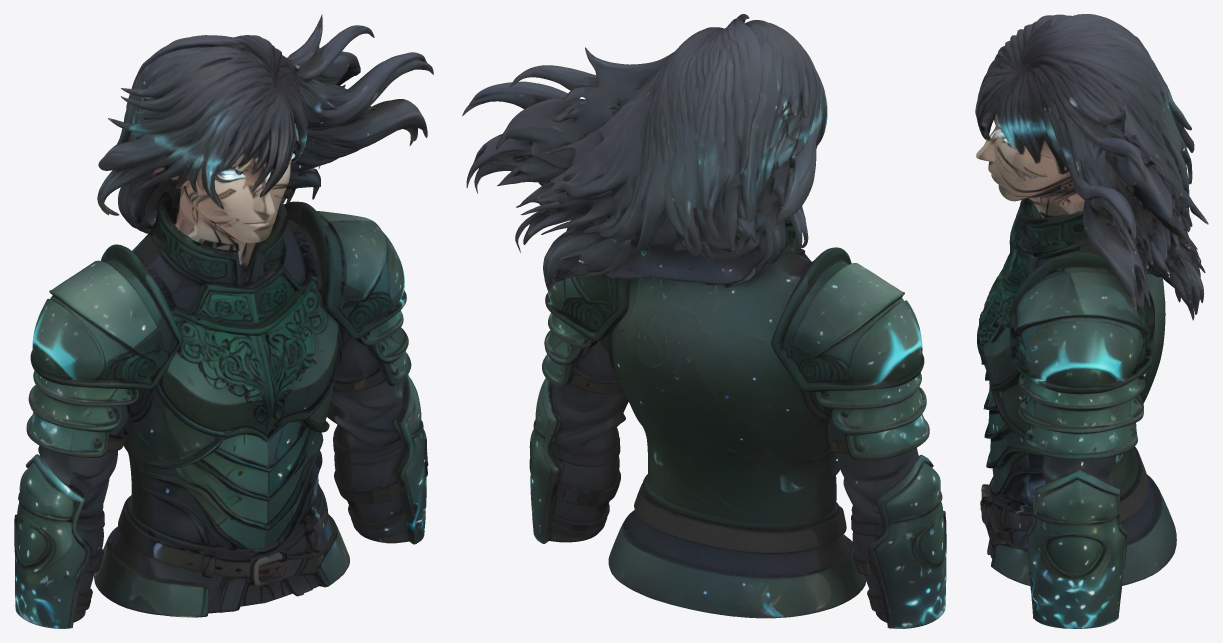
The model's file is av_lv4_comp.glb.
3 renders of one model, left to right at view 1: azimuth 30°, elevation 25°; view 2: azimuth 150°, elevation 25°; view 3: azimuth 270°, elevation 25°, orthographic. The views are drawn at different scales.
Visible parts, largest first — view 1: model; view 2: model; view 3: model.
Boxes of the visible parts, left/top/right/bottom form: model: left=14, top=14, right=433, bottom=628; model: left=462, top=14, right=946, bottom=628; model: left=975, top=14, right=1208, bottom=628.
Size of the model in its own units: 1.61 by 1.87 by 0.7621.
1 material, 1 textured.
